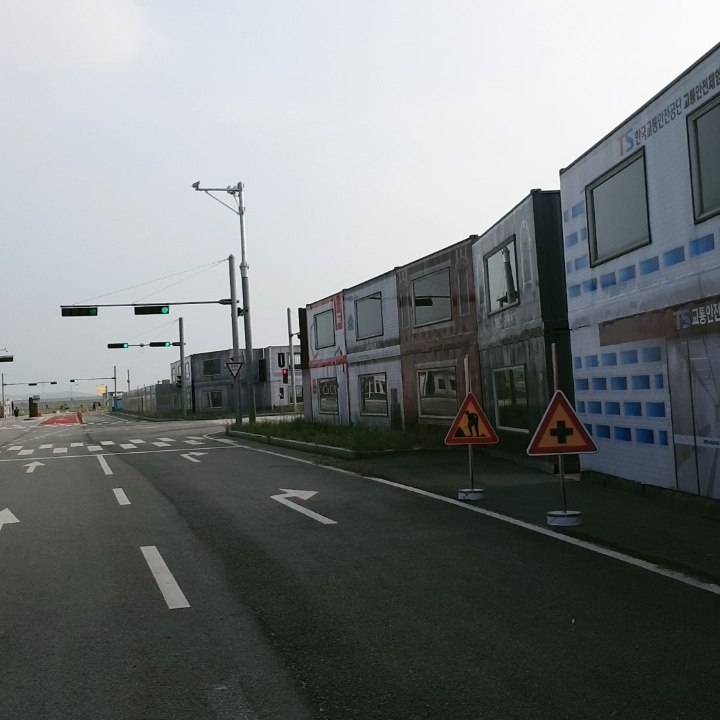const: (451, 401, 491, 439)
inter: (545, 415, 580, 448)
